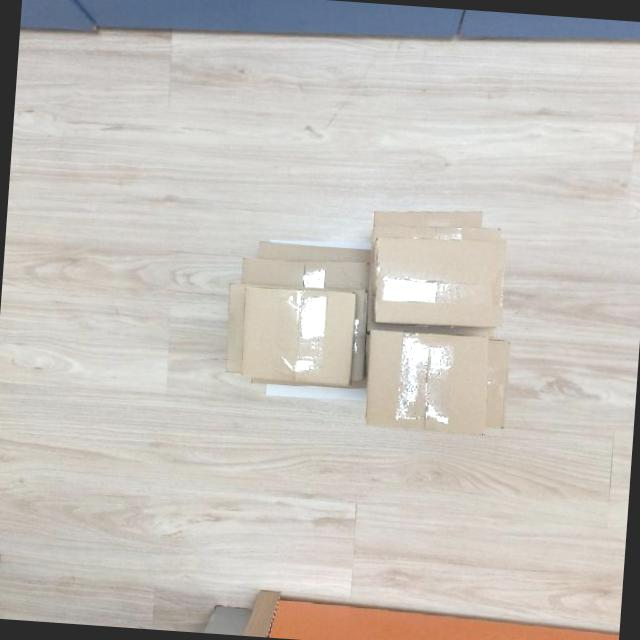box: (358, 320, 493, 440), (369, 228, 513, 332), (234, 282, 360, 392)
